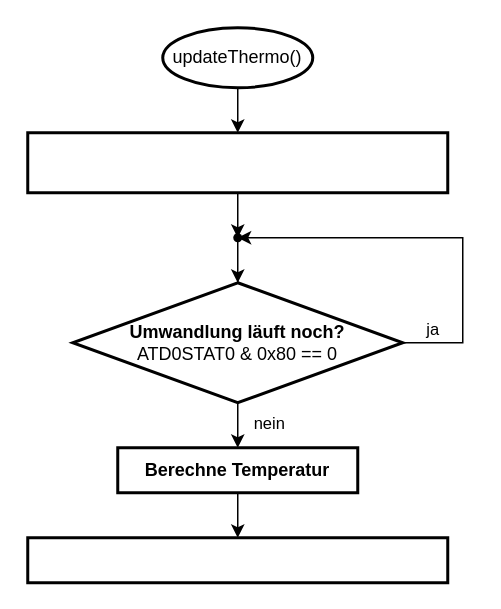
This 501x609 diagram has some shape labels left out. The centre of each missing label's shape, as x and y in pixels:
Rechtsbündig und ohne Vorzeichen mit Kanal 7 ATD0CTL5 = 0x87;: the point at 237,162
Umwandlung der Temperatur in ASCII-Zeichen: the point at 237,560
